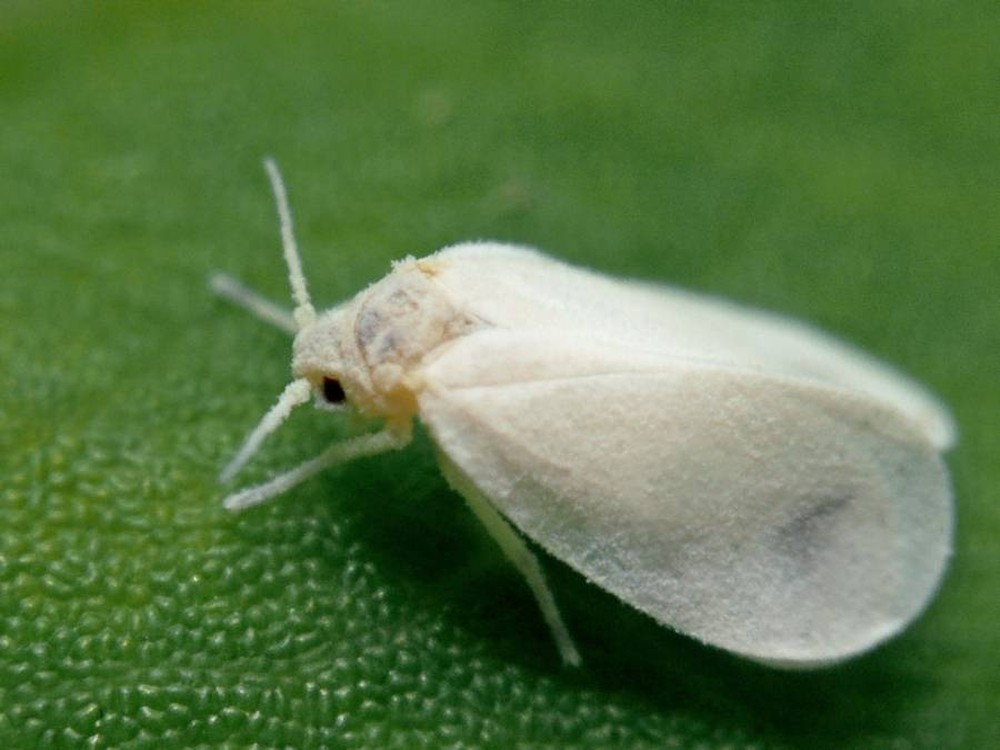Mosca Blanca: (221, 194, 969, 711)
